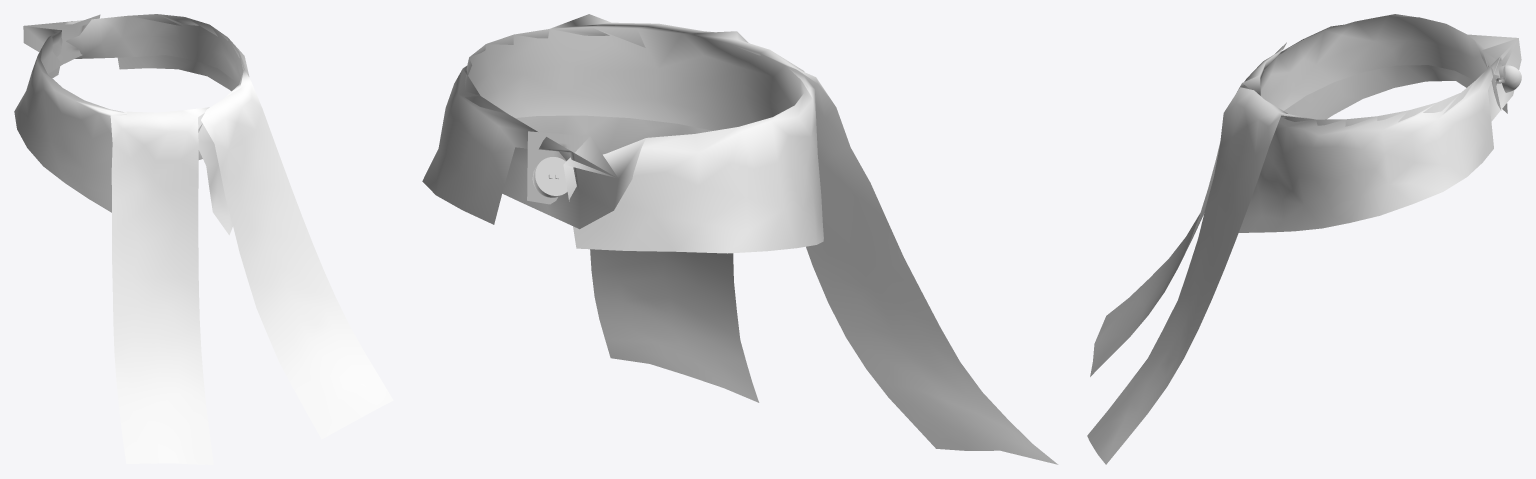
File: femaleScarf.glb
3 views of the same model, side by side, from view 1: azimuth 30°, elevation 25°; view 2: azimuth 150°, elevation 25°; view 3: azimuth 270°, elevation 25° (orthographic). The views are drawn at different scales.
Parts seen in each view (by area): view 1: femalScarf1; view 2: femalScarf1; view 3: femalScarf1.
Part boxes in pixels (left/top/right/bottom): femalScarf1: left=14, top=14, right=393, bottom=464; femalScarf1: left=422, top=14, right=1058, bottom=464; femalScarf1: left=1087, top=14, right=1521, bottom=464.
Size of the model in its own units: 1.54 by 1.69 by 1.93.
1 material, 1 textured.
